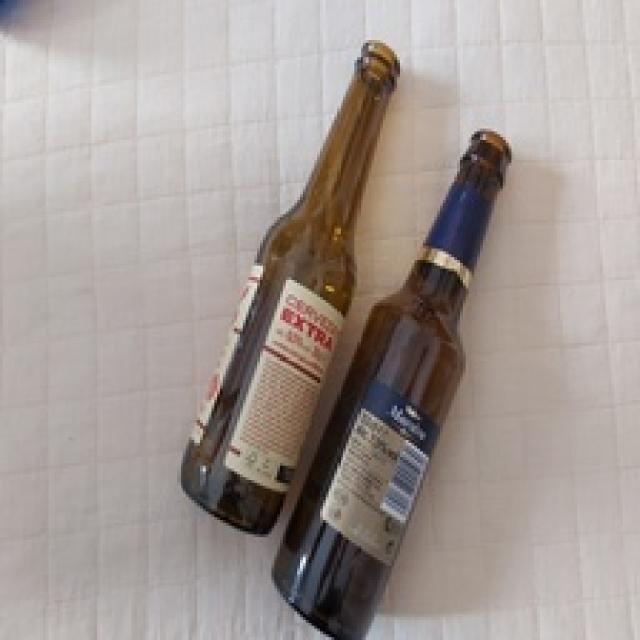Glass: (270, 129, 520, 640), (178, 38, 402, 536)
